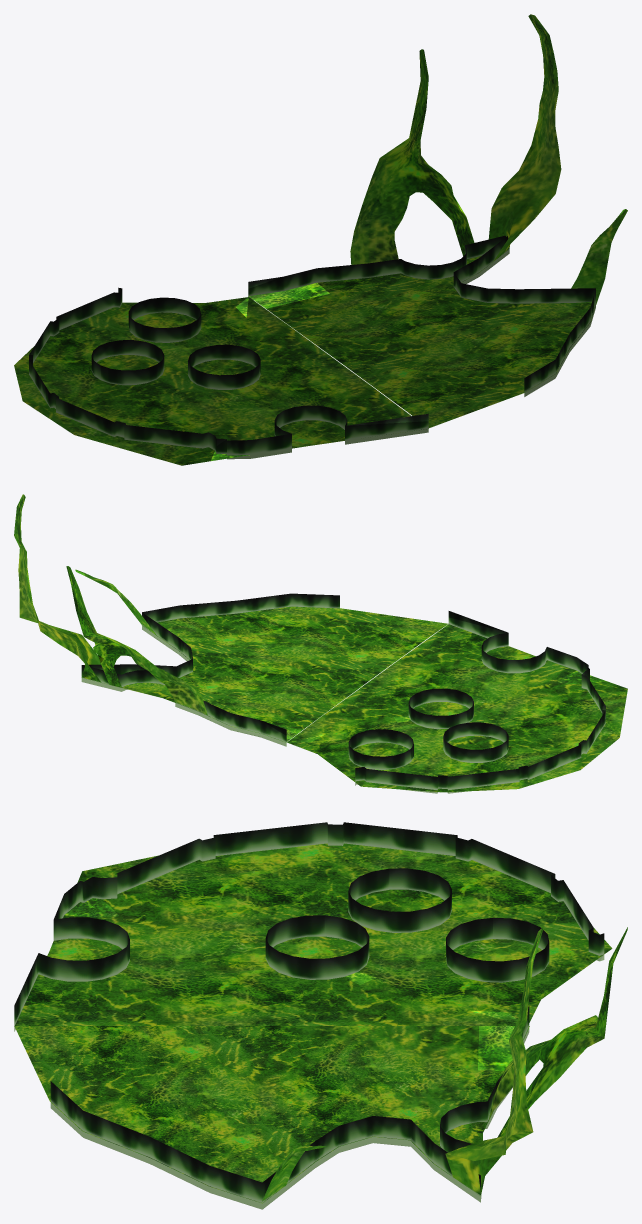
The model's file is stg610_MotLiquid_24.obj.
3 views of the same model, one above another, from view 1: azimuth 30°, elevation 25°; view 2: azimuth 150°, elevation 25°; view 3: azimuth 270°, elevation 25° (orthographic). The views are drawn at different scales.
Parts seen in each view (by area): view 1: polygon0, polygon1, polygon5, polygon9, polygon2, polygon3, polygon8, polygon6, polygon7, polygon4; view 2: polygon0, polygon1, polygon9, polygon5, polygon2, polygon3, polygon6, polygon8, polygon7, polygon4; view 3: polygon0, polygon1, polygon5, polygon9, polygon3, polygon7, polygon8, polygon2, polygon6, polygon4.
Boxes of the visible parts, <box> form: polygon0: <box>14,297,428,465</box>; polygon1: <box>248,251,596,427</box>; polygon5: <box>29,287,428,459</box>; polygon9: <box>248,235,595,396</box>; polygon2: <box>350,49,474,264</box>; polygon3: <box>488,14,561,261</box>; polygon8: <box>91,340,164,385</box>; polygon6: <box>128,297,201,342</box>; polygon7: <box>188,344,260,389</box>; polygon4: <box>571,209,627,304</box>; polygon0: <box>287,624,627,792</box>; polygon1: <box>97,606,448,742</box>; polygon9: <box>81,593,339,746</box>; polygon5: <box>355,611,605,793</box>; polygon2: <box>66,566,207,715</box>; polygon3: <box>14,494,100,682</box>; polygon6: <box>348,729,413,769</box>; polygon8: <box>443,722,508,762</box>; polygon7: <box>408,688,473,729</box>; polygon4: <box>75,569,157,636</box>; polygon0: <box>15,843,612,1025</box>; polygon1: <box>14,1026,529,1203</box>; polygon5: <box>14,822,604,1031</box>; polygon9: <box>50,1006,529,1209</box>; polygon3: <box>445,928,543,1195</box>; polygon7: <box>265,915,369,979</box>; polygon8: <box>348,868,451,932</box>; polygon2: <box>488,927,627,1137</box>; polygon6: <box>446,917,549,982</box>; polygon4: <box>261,1145,327,1202</box>.
Bounding box in the file's own units: 2600 × 909 × 1662.
Materials: 2 (2 with a texture image).
